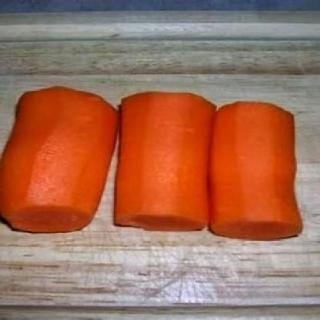carrot: (3, 88, 119, 236), (212, 86, 310, 244), (116, 89, 212, 239)
